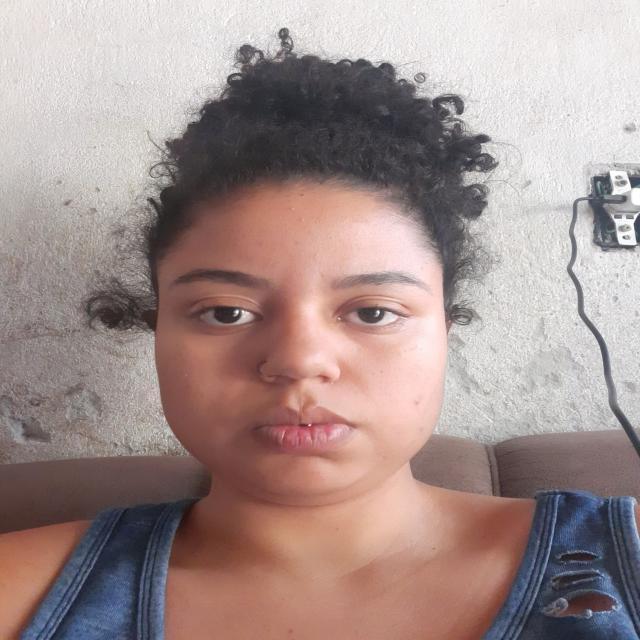Acne: (394, 387, 436, 410)
